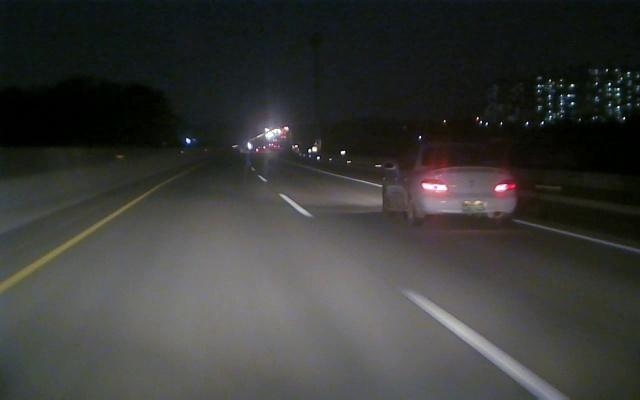lane: (278, 192, 571, 399), (338, 173, 639, 254), (2, 192, 147, 292)
